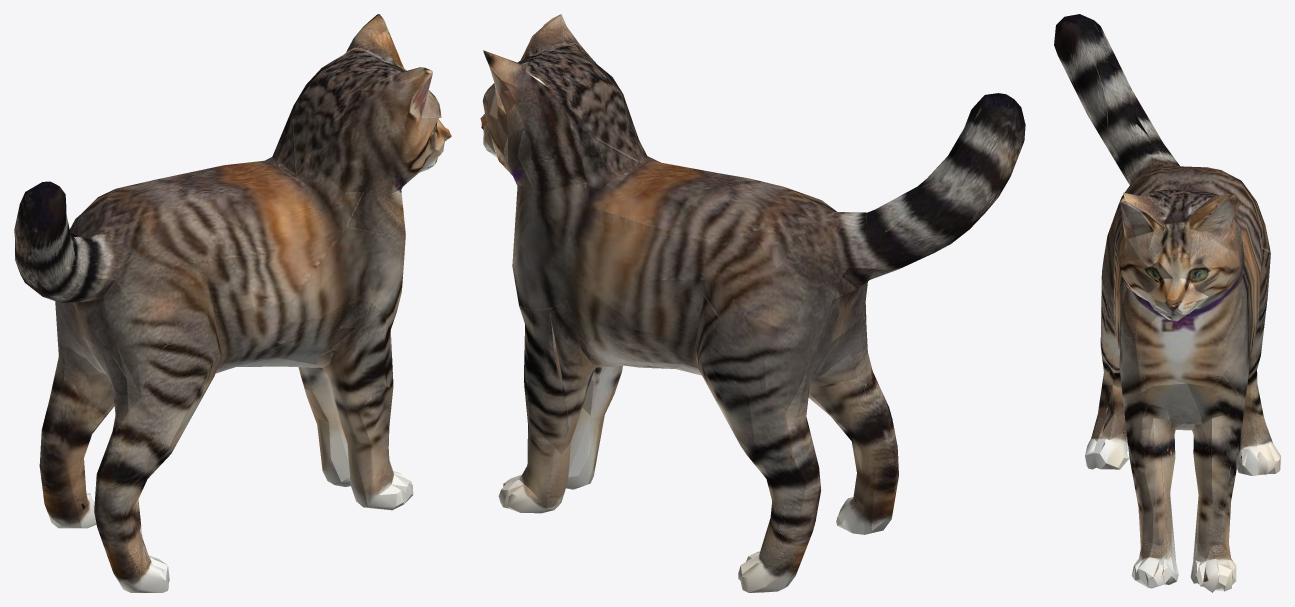
File: DIDGACAT-lo.glb
3 renders of one model, left to right at view 1: azimuth 30°, elevation 25°; view 2: azimuth 150°, elevation 25°; view 3: azimuth 270°, elevation 25°, orthographic. The views are drawn at different scales.
Parts seen in each view (by area): view 1: output_unwrapped; view 2: output_unwrapped; view 3: output_unwrapped.
Boxes of the visible parts, x1,y1,x2,y2 form: output_unwrapped: [14, 14, 451, 592]; output_unwrapped: [480, 14, 1025, 592]; output_unwrapped: [1054, 14, 1280, 592].
Size of the model in its own units: 1.12 by 1 by 0.5097.
1 material, 1 textured.
